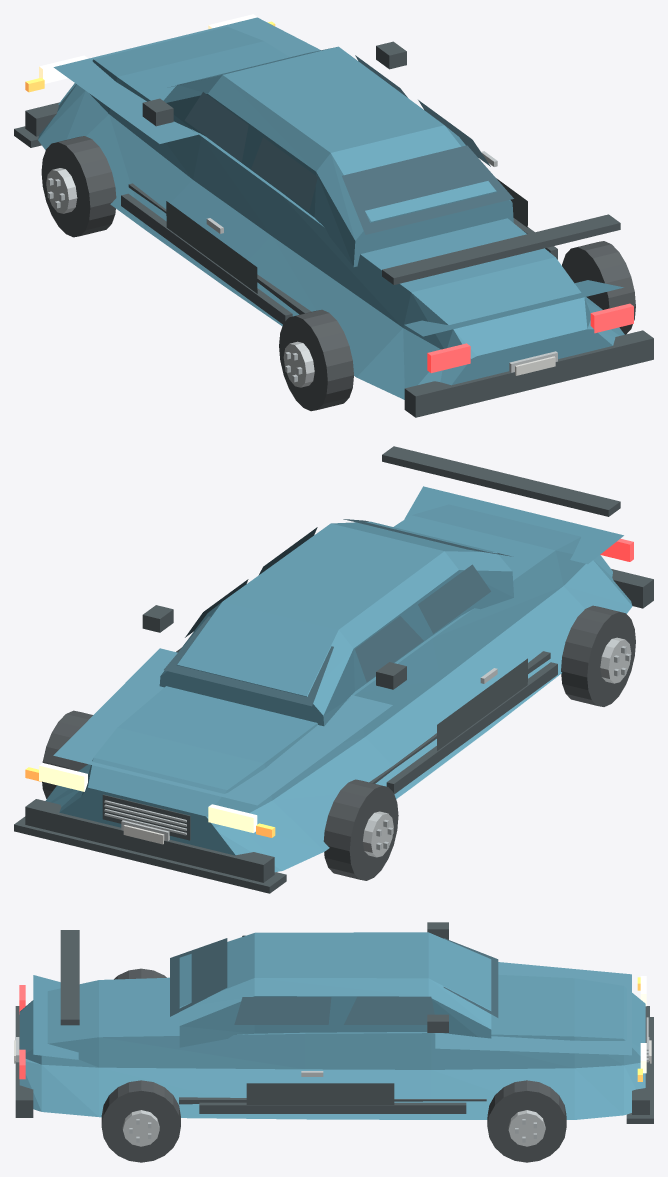
Rendered from VehicleModern_Sports.glb.
The picture shows the model from 3 angles, top to bottom: view 1: azimuth 30°, elevation 25°; view 2: azimuth 150°, elevation 25°; view 3: azimuth 270°, elevation 25°; orthographic projection. The views are drawn at different scales.
Visible parts, largest first — view 1: BodyPaint, CabinPaint, RearWindow, RearBumper, Hood, StaticWheelTire_-1_Rear, StaticWheelTire_-1_Front, RearSpoiler, StaticWheelTire_1_Rear, SideTrim-1, DoorSeam-1, WindowGlassRear-1 (+10 smaller); view 2: BodyPaint, CabinPaint, Hood, FrontBumper, StaticWheelTire_-1_Rear, StaticWheelTire_-1_Front, RearSpoiler, Trunk, FrontSplitter, SideTrim-1, DoorSeam-1, WindowGlassRear-1 (+11 smaller); view 3: BodyPaint, CabinPaint, Hood, StaticWheelTire_1_Rear, StaticWheelTire_1_Front, DoorSeam1, SideTrim1, RearWindow, WindowGlassRear1, WindowGlassSide1, RearSpoiler, Trunk (+9 smaller).
Part boxes in pixels (x1,y1,x2,y2): BodyPaint: (38,26,624,399); CabinPaint: (163,46,513,266); RearWindow: (342,145,513,234); RearBumper: (404,330,653,417); Hood: (53,17,320,143); StaticWheelTire_-1_Rear: (279,309,353,411); StaticWheelTire_-1_Front: (41,136,116,237); RearSpoiler: (382,214,620,284); StaticWheelTire_1_Rear: (562,241,635,334); SideTrim-1: (121,193,292,324); DoorSeam-1: (166,201,257,293); WindowGlassRear-1: (251,137,317,211); BodyPaint: (45,504,632,872); CabinPaint: (159,521,513,726); Hood: (53,648,392,805); FrontBumper: (25,799,274,882); StaticWheelTire_-1_Rear: (561,605,635,706); StaticWheelTire_-1_Front: (323,779,398,880); RearSpoiler: (382,446,620,516); Trunk: (404,486,623,564); FrontSplitter: (14,816,286,893); SideTrim-1: (386,662,557,793); DoorSeam-1: (437,658,527,750); WindowGlassRear-1: (418,564,490,633); BodyPaint: (19,974,645,1119); CabinPaint: (179,932,491,1047); Hood: (435,962,631,1055); StaticWheelTire_1_Rear: (101,1080,180,1162); StaticWheelTire_1_Front: (487,1080,566,1162); DoorSeam1: (246,1083,394,1104); SideTrim1: (199,1102,466,1113); RearWindow: (170,938,227,1016); WindowGlassRear1: (234,997,331,1024); WindowGlassSide1: (344,996,434,1024); RearSpoiler: (60,930,79,1025); Trunk: (33,975,78,1059).
Bounding box in the file's own units: 2.28 × 1.18 × 4.68.
